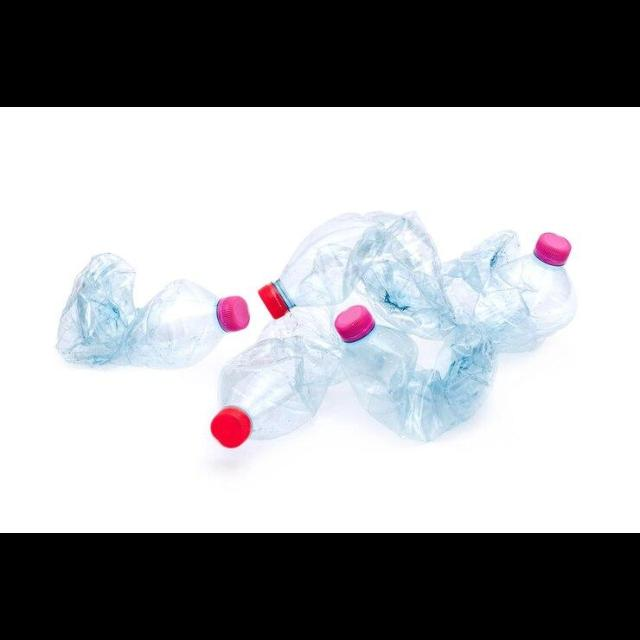garrafa plástica: (280, 212, 458, 344), (52, 252, 222, 368), (348, 326, 498, 442), (439, 229, 577, 353), (220, 306, 348, 439)
tampa plástica: (212, 409, 250, 447), (333, 304, 372, 340), (256, 282, 290, 321), (214, 296, 250, 332), (534, 232, 570, 264)
